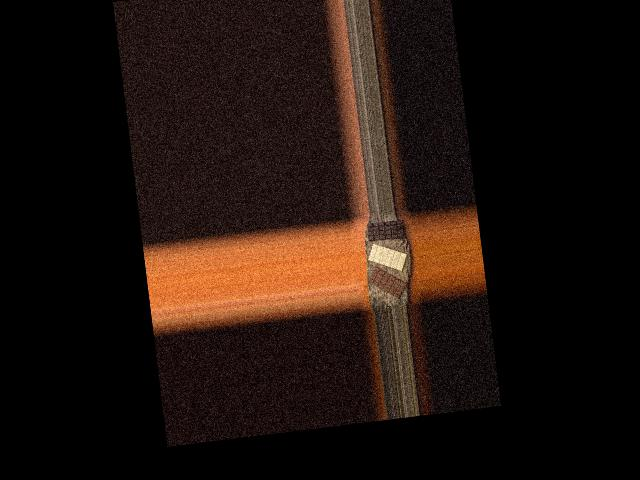chocolate: (366, 218, 405, 241)
